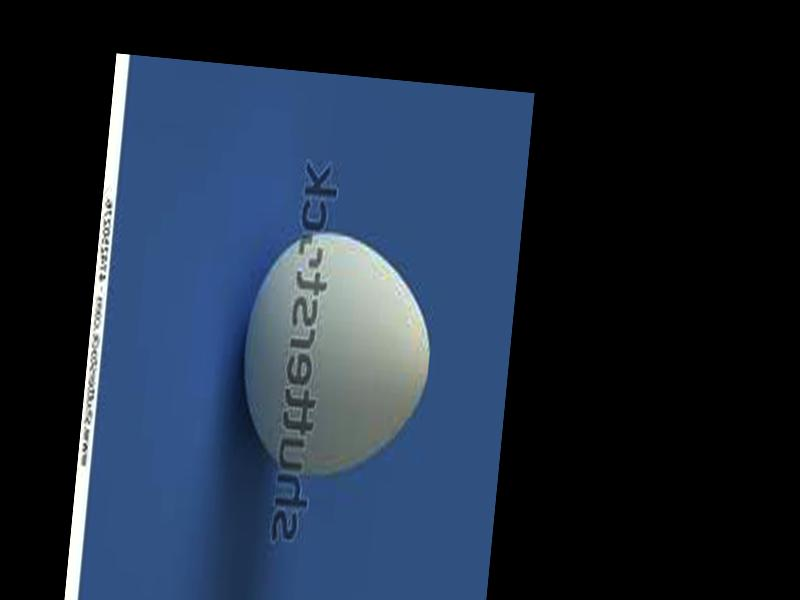Eggs: (231, 224, 440, 485)
